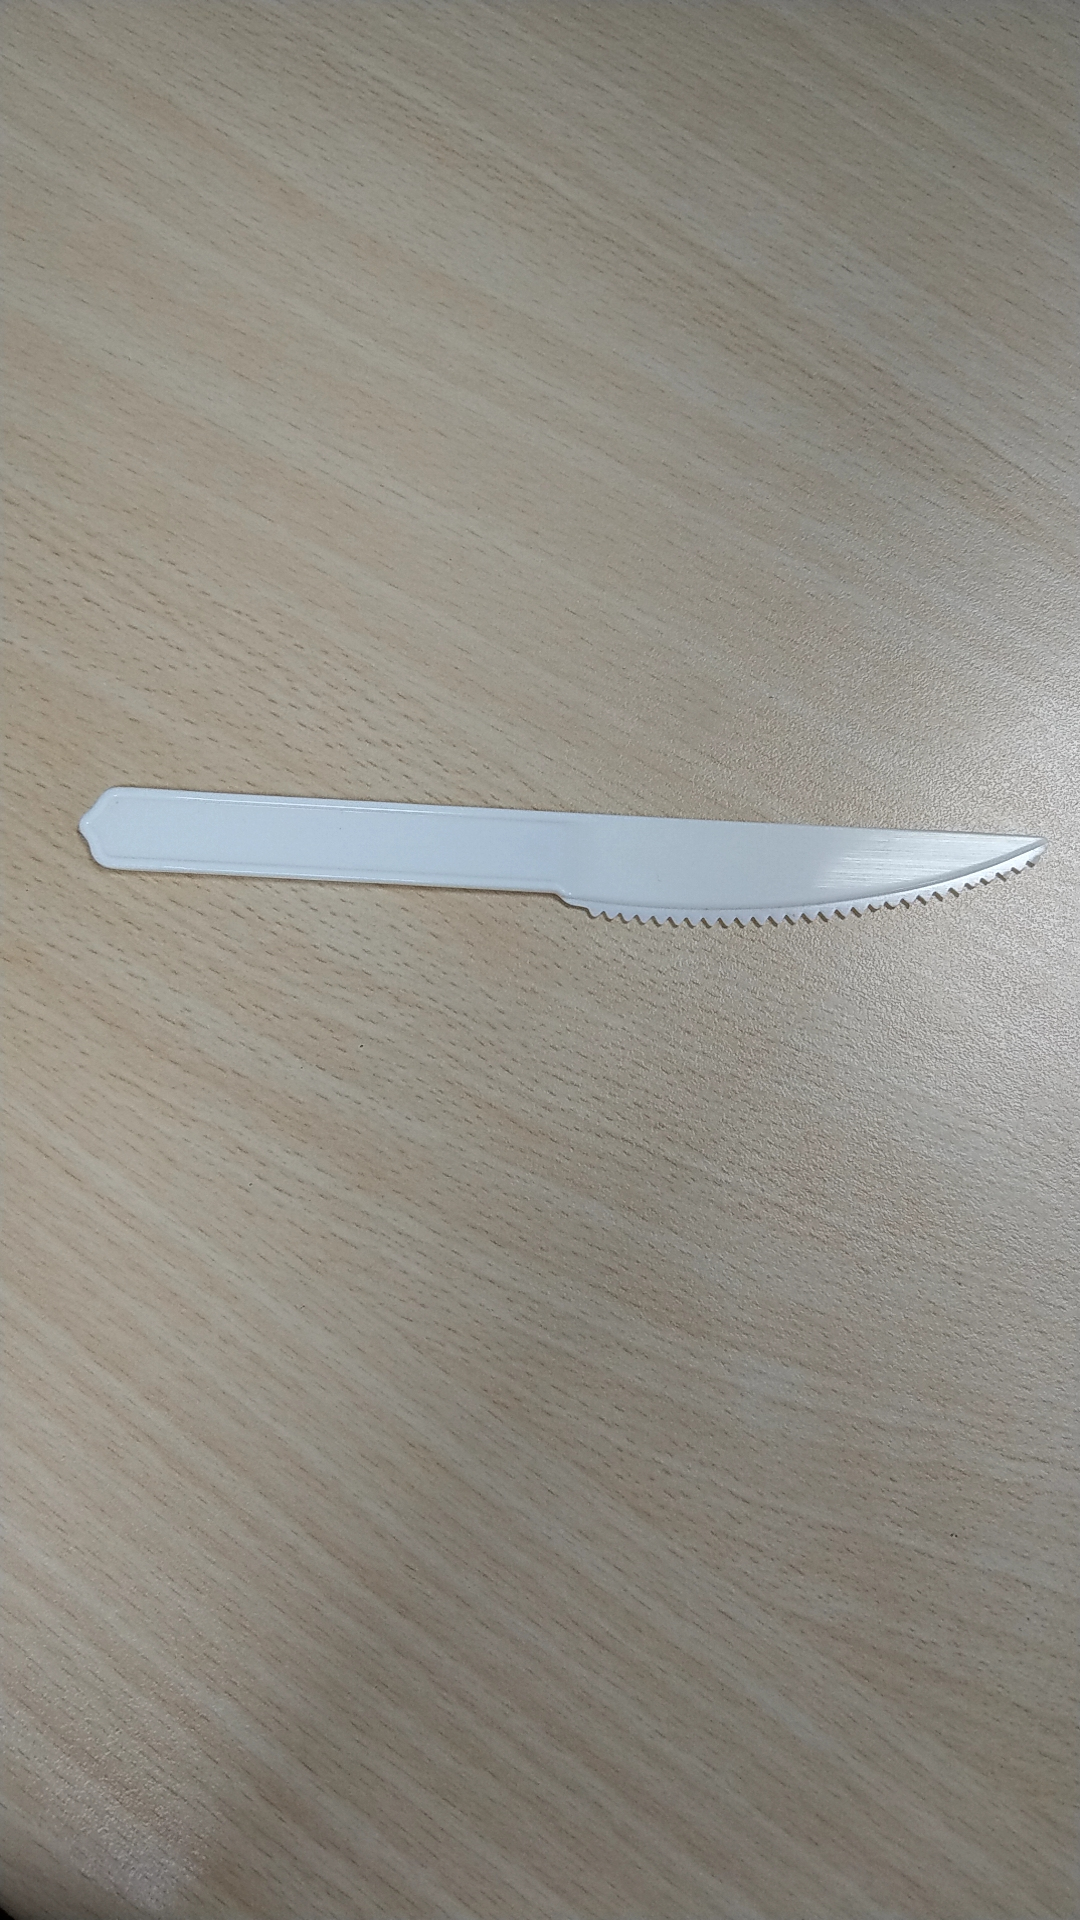knife: (51, 750, 1069, 939)
